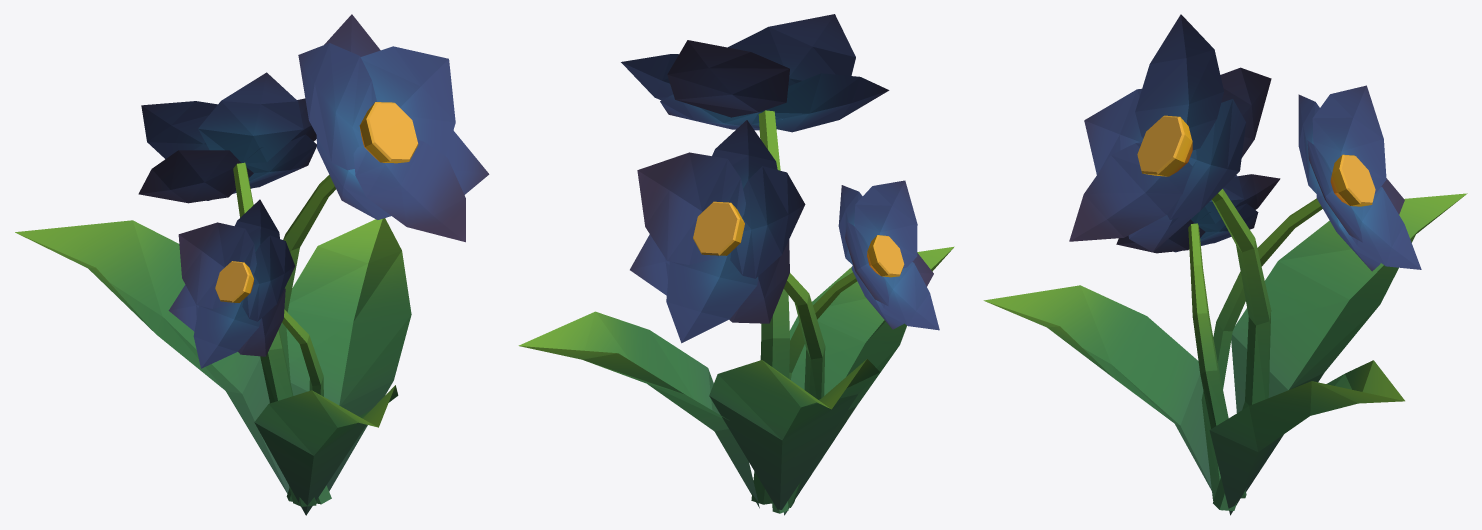
File: azul-1.glb
The picture shows the model from 3 angles, left to right: view 1: azimuth 30°, elevation 25°; view 2: azimuth 150°, elevation 25°; view 3: azimuth 270°, elevation 25°; orthographic projection. The views are drawn at different scales.
Parts seen in each view (by area): view 1: Flower.024; view 2: Flower.024; view 3: Flower.024.
Boxes of the visible parts, bbox=[...] form: Flower.024: bbox=[15, 14, 489, 515]; Flower.024: bbox=[518, 14, 954, 515]; Flower.024: bbox=[983, 14, 1467, 515].
Bounding box in the file's own units: 2.43 × 3.31 × 3.01.
Materials: 1 (1 with a texture image).
